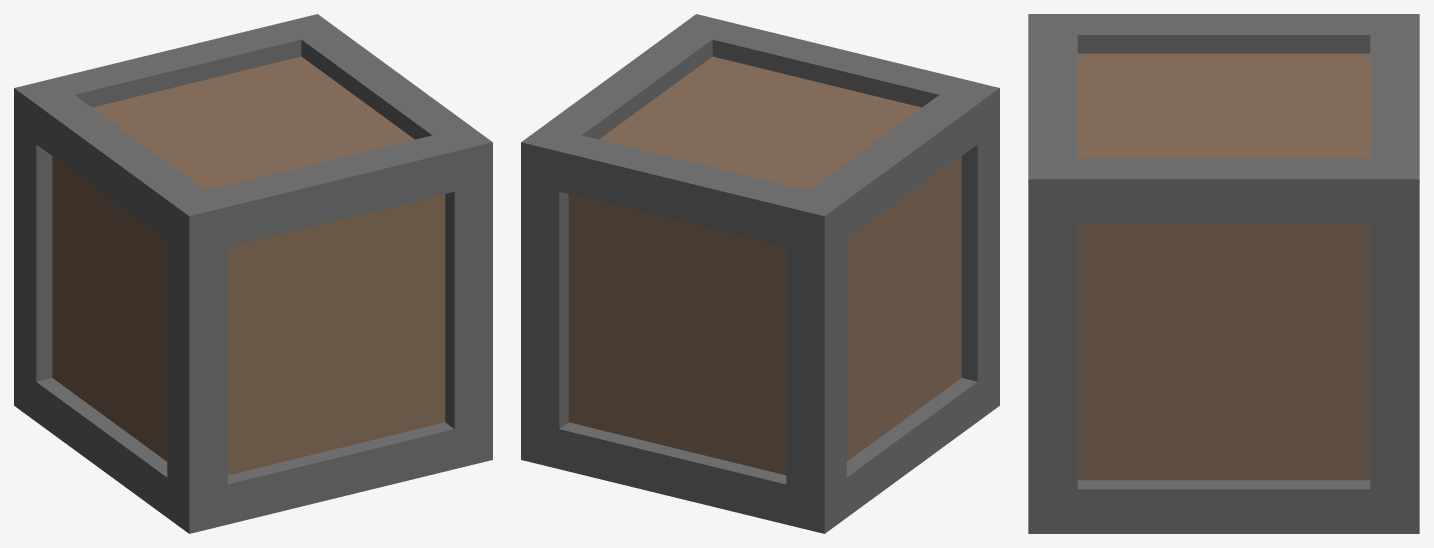
Rendered from SM_crate_02.fbx.
3 views of the same model, side by side, from view 1: azimuth 30°, elevation 25°; view 2: azimuth 150°, elevation 25°; view 3: azimuth 270°, elevation 25° (orthographic). The views are drawn at different scales.
Parts seen in each view (by area): view 1: crate_02; view 2: crate_02; view 3: crate_02.
Part boxes in pixels (left/top/right/bottom): crate_02: left=14, top=14, right=492, bottom=533; crate_02: left=521, top=14, right=999, bottom=533; crate_02: left=1028, top=14, right=1419, bottom=533.
Bounding box in the file's own units: 75.84 × 75.84 × 75.84.
